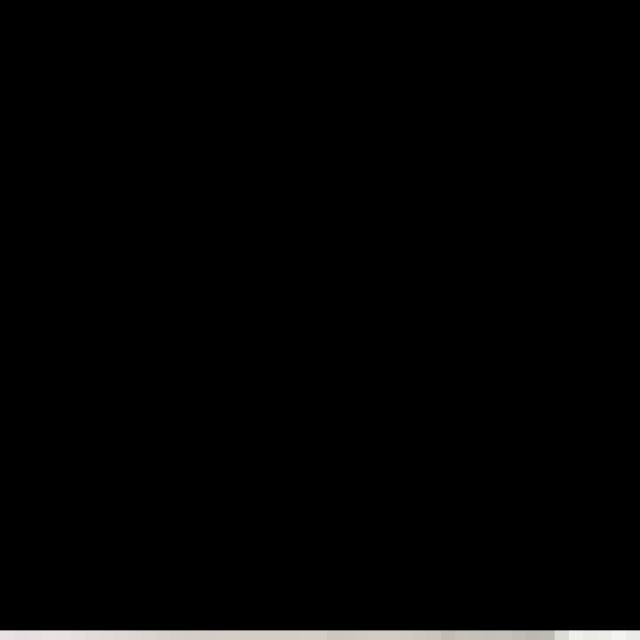smoke: (0, 0, 640, 630)
